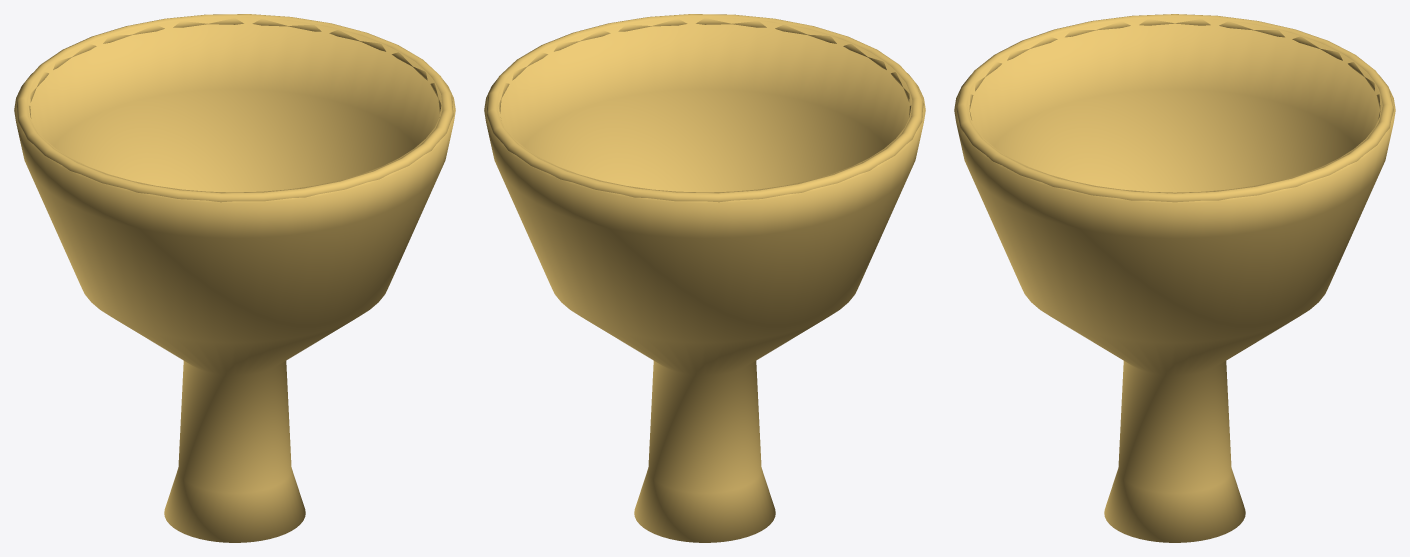
The model's file is tacas.glb.
The picture shows the model from 3 angles, left to right: view 1: azimuth 30°, elevation 25°; view 2: azimuth 150°, elevation 25°; view 3: azimuth 270°, elevation 25°; orthographic projection.
Parts seen in each view (by area): view 1: Recipiente aberto, Borda trabalhada; view 2: Recipiente aberto, Borda trabalhada; view 3: Recipiente aberto, Borda trabalhada.
Boxes of the visible parts, left/top/right/bottom form: Recipiente aberto: left=14, top=17, right=455, bottom=542; Borda trabalhada: left=16, top=14, right=453, bottom=202; Recipiente aberto: left=484, top=17, right=925, bottom=542; Borda trabalhada: left=486, top=14, right=923, bottom=202; Recipiente aberto: left=954, top=18, right=1395, bottom=542; Borda trabalhada: left=956, top=14, right=1393, bottom=202.
Bounding box in the file's own units: 1.56 × 1.67 × 1.56.
